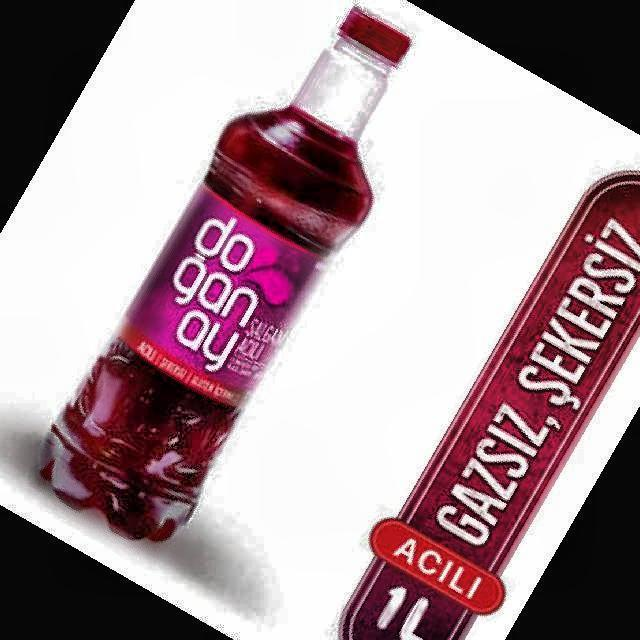plastic: (41, 9, 409, 539)
